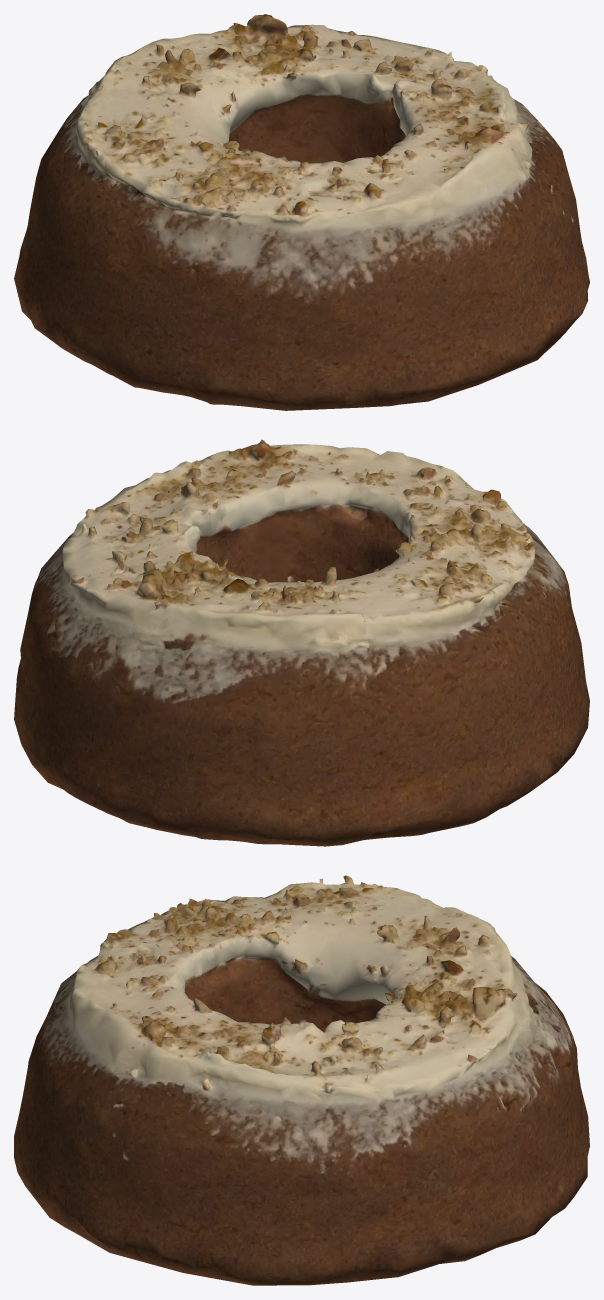
File: carrot-cake.glb
3 renders of one model, top to bottom at view 1: azimuth 30°, elevation 25°; view 2: azimuth 150°, elevation 25°; view 3: azimuth 270°, elevation 25°, orthographic. The views are drawn at different scales.
Parts seen in each view (by area): view 1: carrot_cake; view 2: carrot_cake; view 3: carrot_cake.
Boxes of the visible parts, box(x1,y1,x2,y2) form: carrot_cake: box(14, 14, 589, 410); carrot_cake: box(14, 439, 589, 846); carrot_cake: box(14, 875, 589, 1285).
Size of the model in its own units: 0.2254 by 0.0976 by 0.2254.
Materials: 1 (1 with a texture image).
